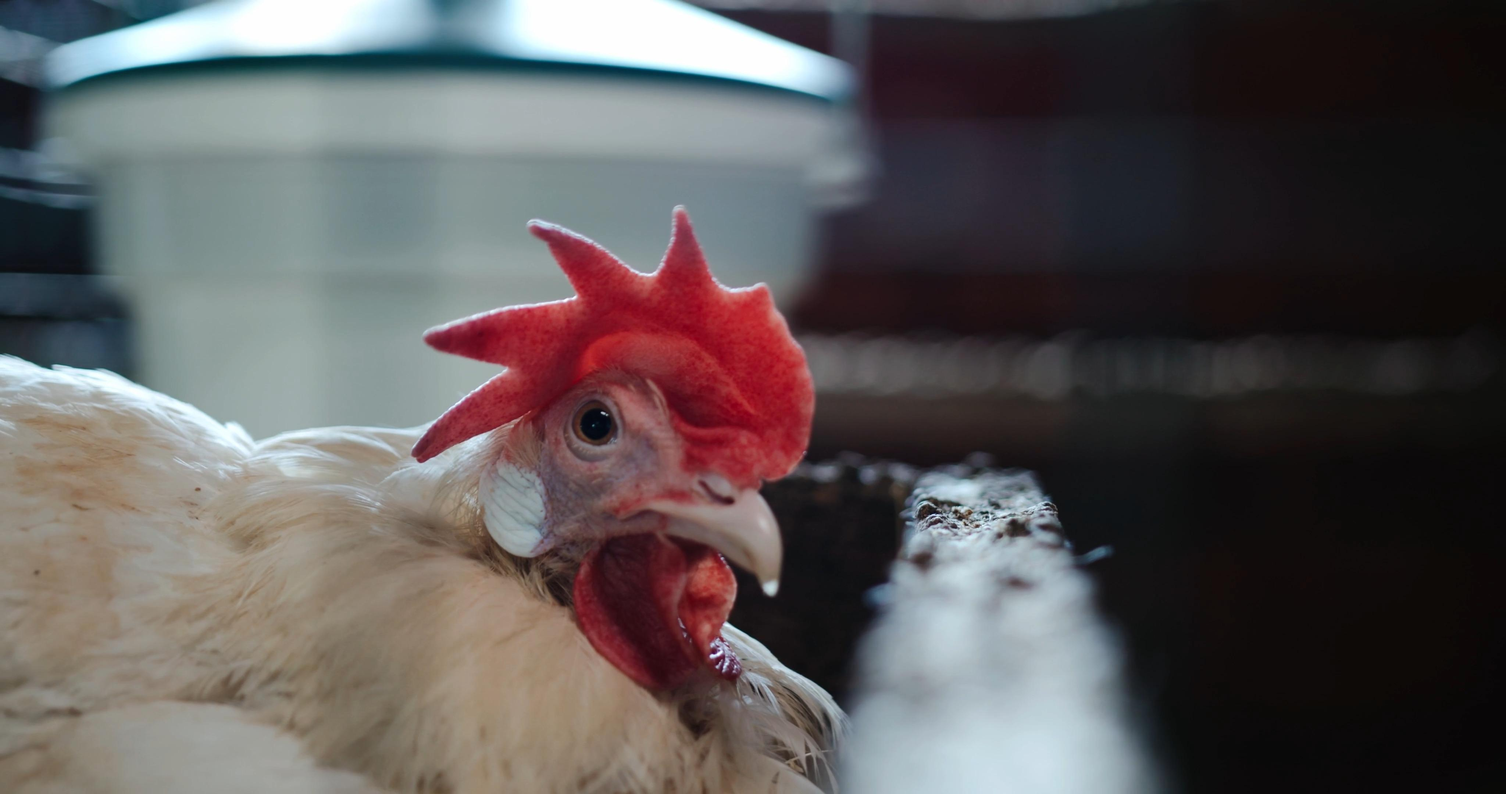Normal: (92, 219, 894, 794)
